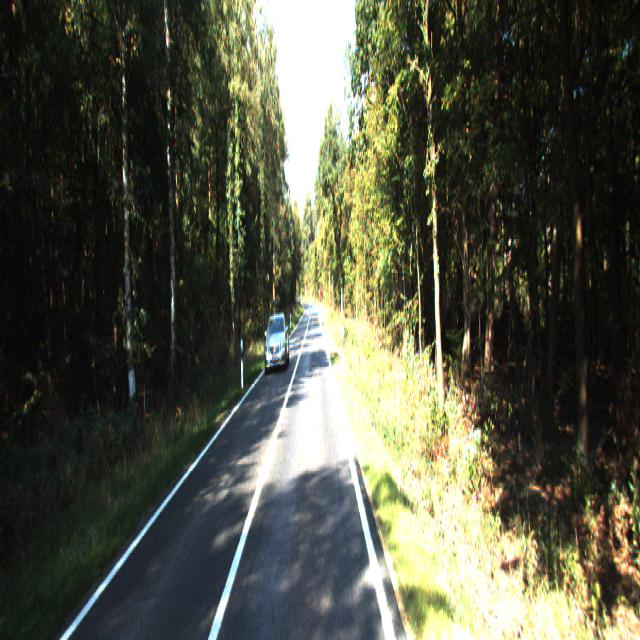Car: (262, 312, 290, 374)
